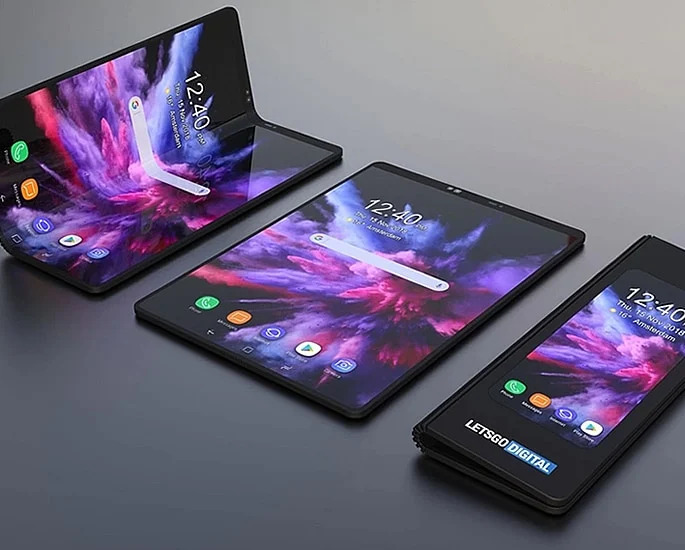phones: (133, 149, 594, 436), (398, 223, 685, 530)
